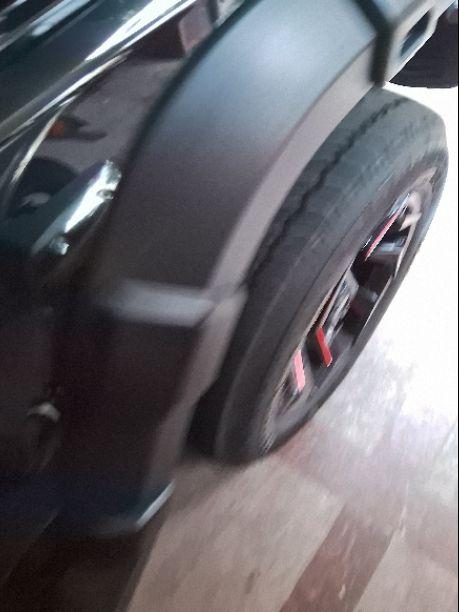license_plate: (304, 266, 359, 369)
